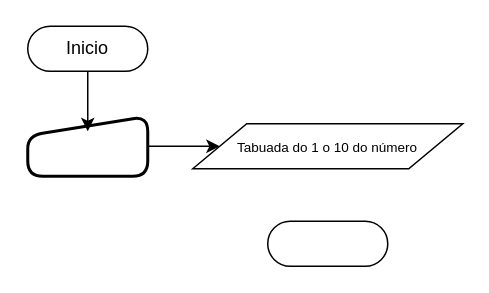
Image size: 489x293. Some labels were removed from this diagram. Each missing label, with the centre of its shape:
Fim: point 327,243
Numero: point 87,145
